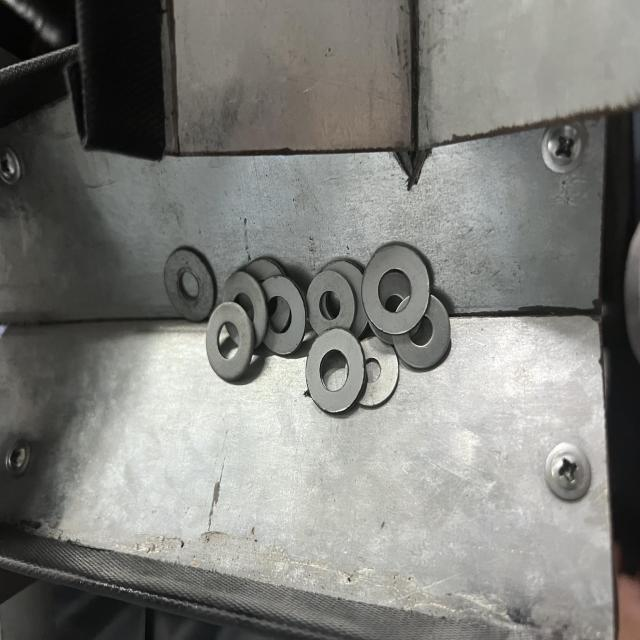washer: (362, 243, 430, 329), (304, 327, 362, 413), (205, 302, 255, 383)
